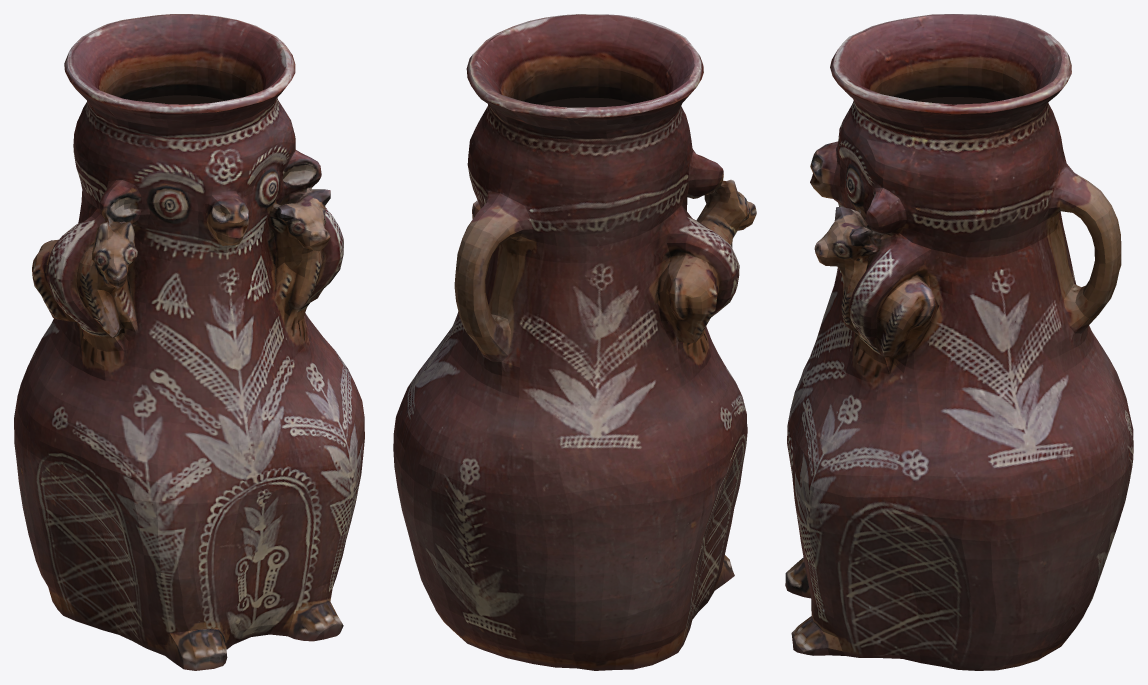
The model's file is toritos.FBX.
The picture shows the model from 3 angles, left to right: view 1: azimuth 30°, elevation 25°; view 2: azimuth 150°, elevation 25°; view 3: azimuth 270°, elevation 25°; orthographic projection. The views are drawn at different scales.
Visible parts, largest first — view 1: Box001; view 2: Box001; view 3: Box001.
Part boxes in pixels (<box>): Box001: <box>14,14,364,670</box>; Box001: <box>393,14,756,670</box>; Box001: <box>785,14,1133,670</box>.
Bounding box in the file's own units: 125 × 215 × 122.
